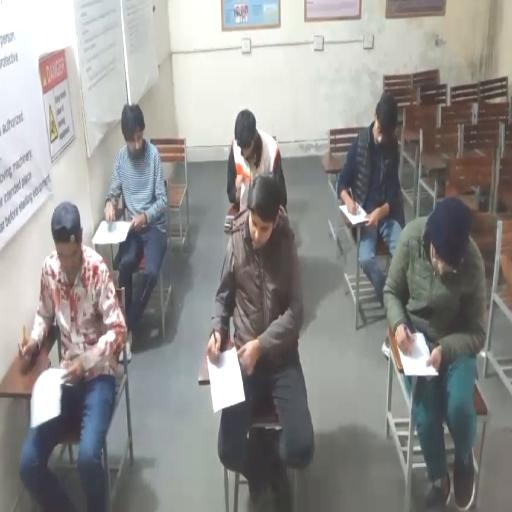paper: (207, 344, 246, 412), (30, 367, 66, 427), (399, 331, 438, 376), (93, 218, 133, 244), (339, 202, 369, 226)
